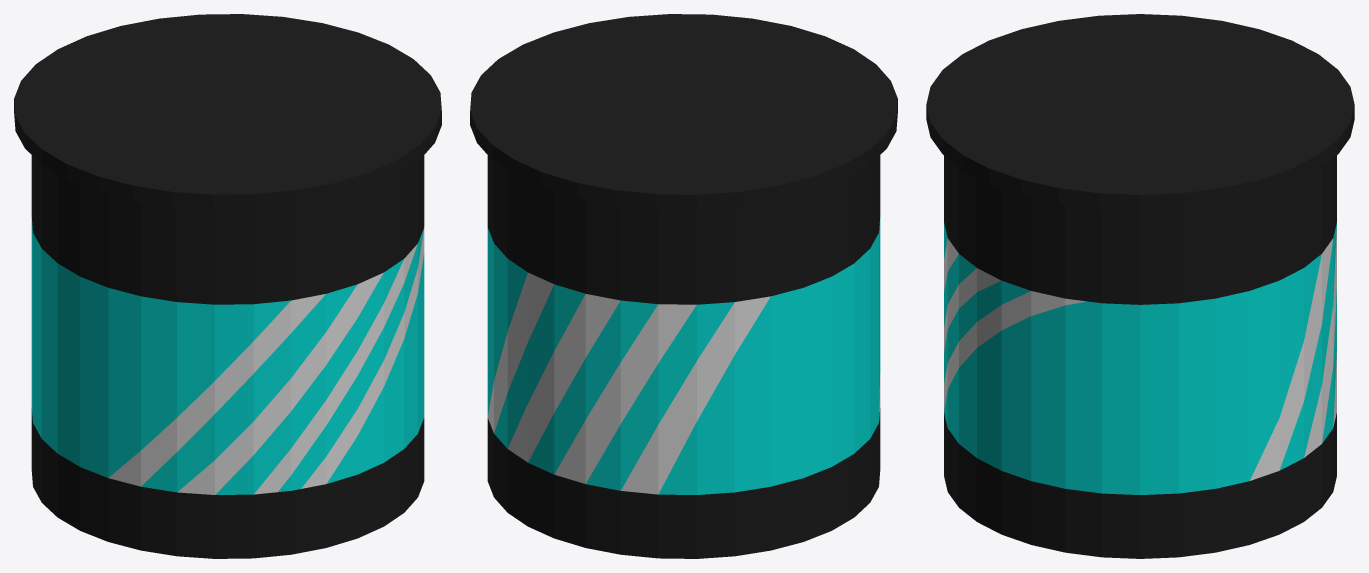
File: whey.fbx
3 renders of one model, left to right at view 1: azimuth 30°, elevation 25°; view 2: azimuth 150°, elevation 25°; view 3: azimuth 270°, elevation 25°, orthographic.
Parts seen in each view (by area): view 1: Cylinder; view 2: Cylinder; view 3: Cylinder.
Boxes of the visible parts, x1,y1,x2,y2 form: Cylinder: (14,14,441,558); Cylinder: (470,14,897,558); Cylinder: (926,14,1354,558).
Bounding box in the file's own units: 218 × 209 × 218.
